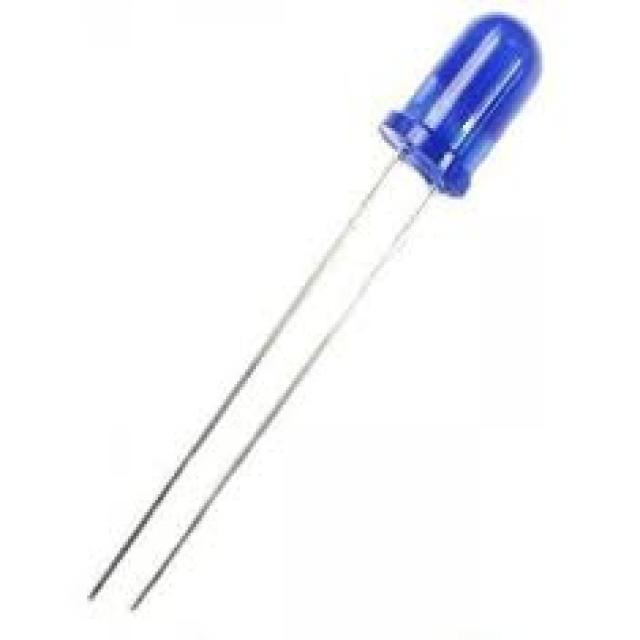Led: (164, 14, 540, 564), (171, 161, 396, 479)
